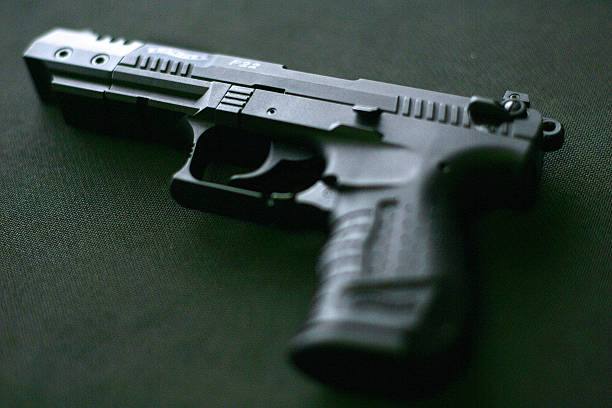pistol: (18, 19, 565, 394)
